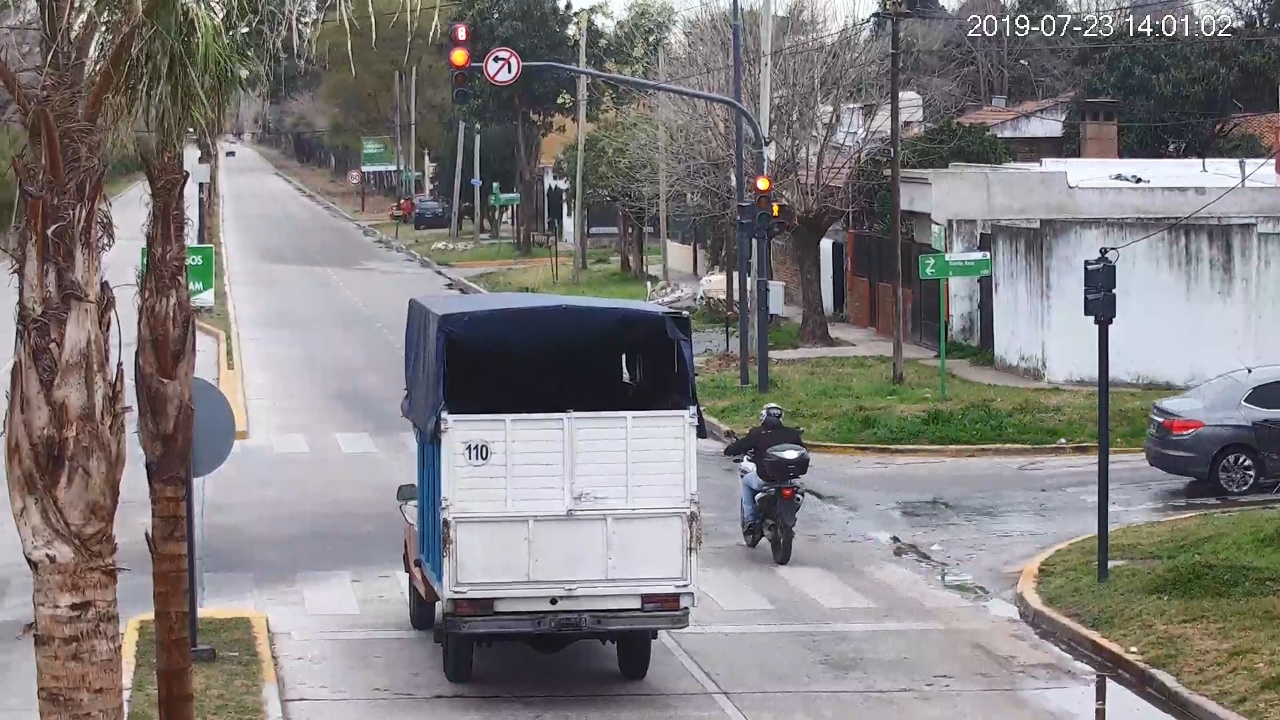motorcycle: (723, 424, 810, 564)
traffic light: (451, 46, 470, 105), (756, 177, 771, 228)
truck: (396, 298, 700, 680)
